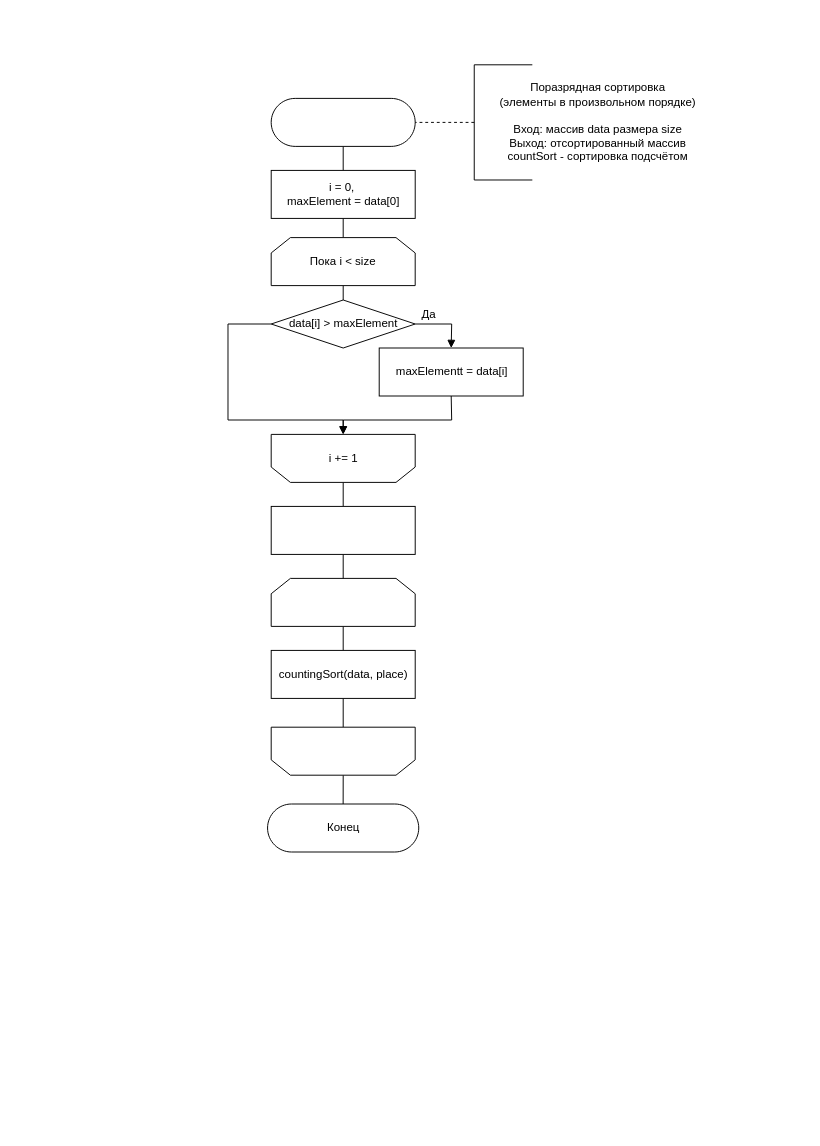
The diagram is 820 pixels wide and 1146 high, and some of its shapes have lost their labels. Each missing label, with the centre of its shape:
"place *= 10" belongs at (x=342, y=750).
"place = 1" belongs at (x=342, y=529).
"Начало" belongs at (x=342, y=121).
"Пока maxElement // place > 0" belongs at (x=342, y=601).
